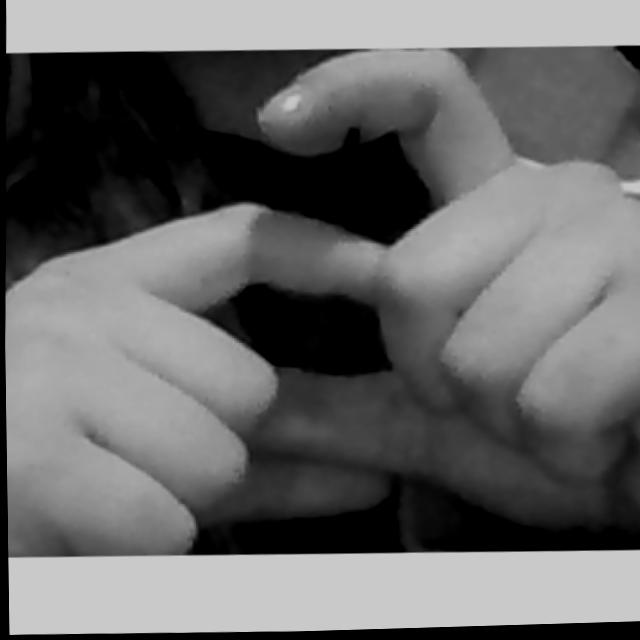G-: (1, 30, 640, 568)
